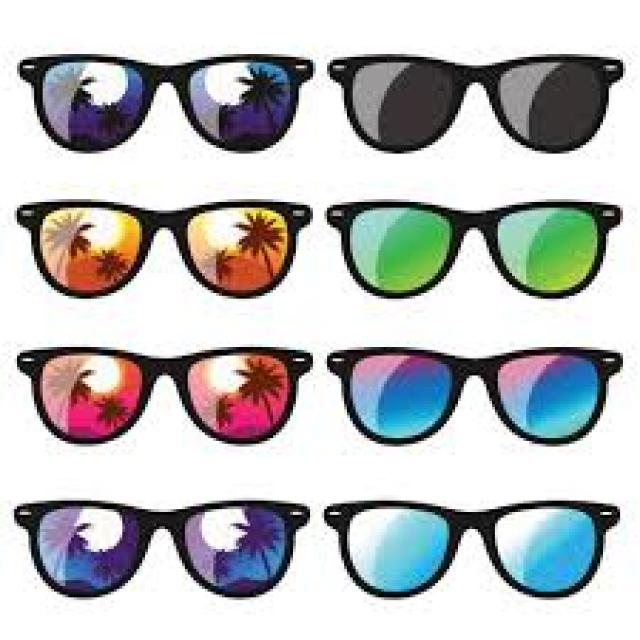sunglasses: (18, 41, 624, 604)
